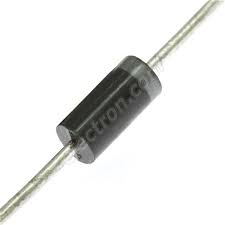diode: (28, 47, 171, 167)
